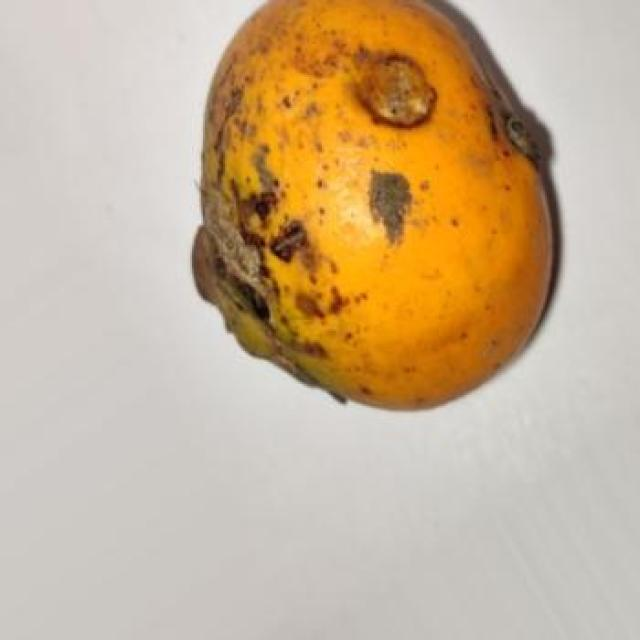good: (191, 0, 552, 412)
